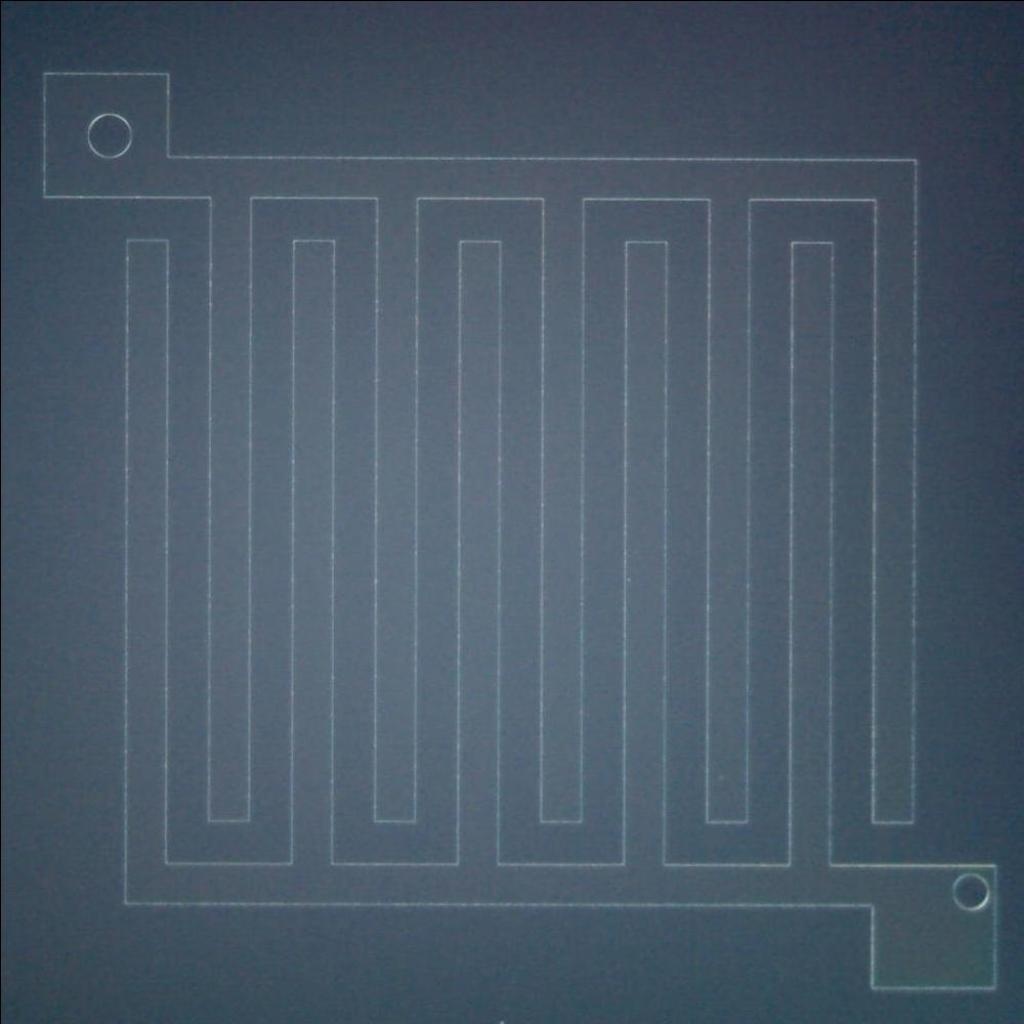circle: (84, 109, 134, 161), (946, 869, 996, 914)
